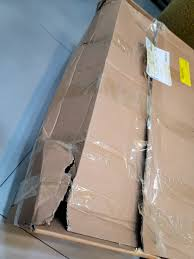damaged package: (25, 136, 81, 236), (134, 81, 155, 254)
